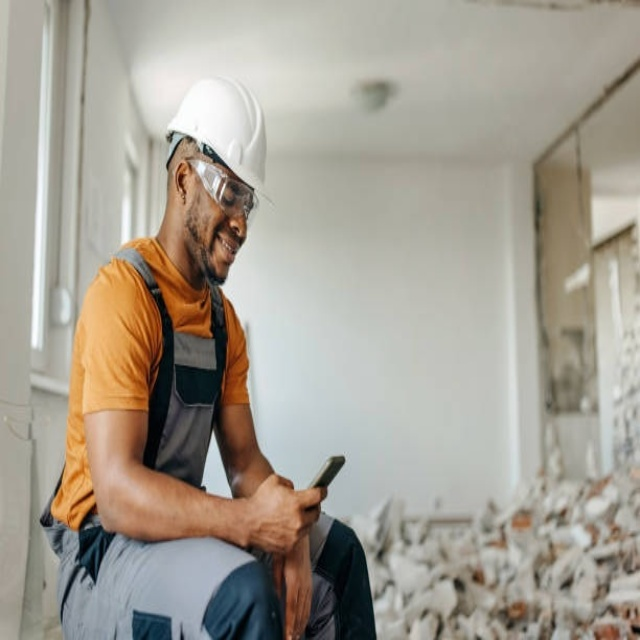Gafas: (180, 156, 262, 225)
Sin_guantes: (244, 471, 326, 555), (284, 535, 314, 637)
Sin_mascara: (211, 232, 238, 281)
